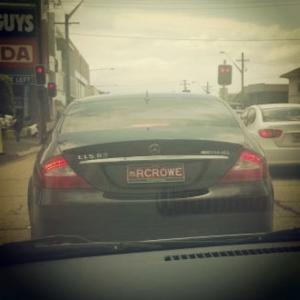Vehicle-registration-plate: (127, 164, 188, 185)
